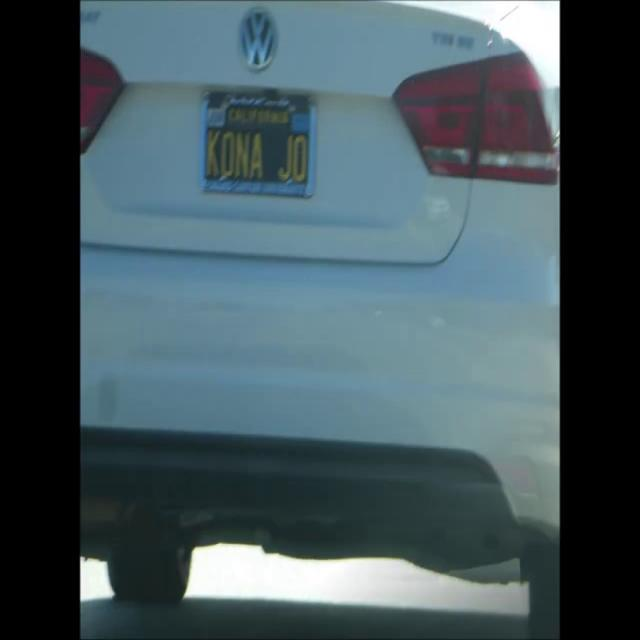licenseplate: (198, 81, 325, 216)
